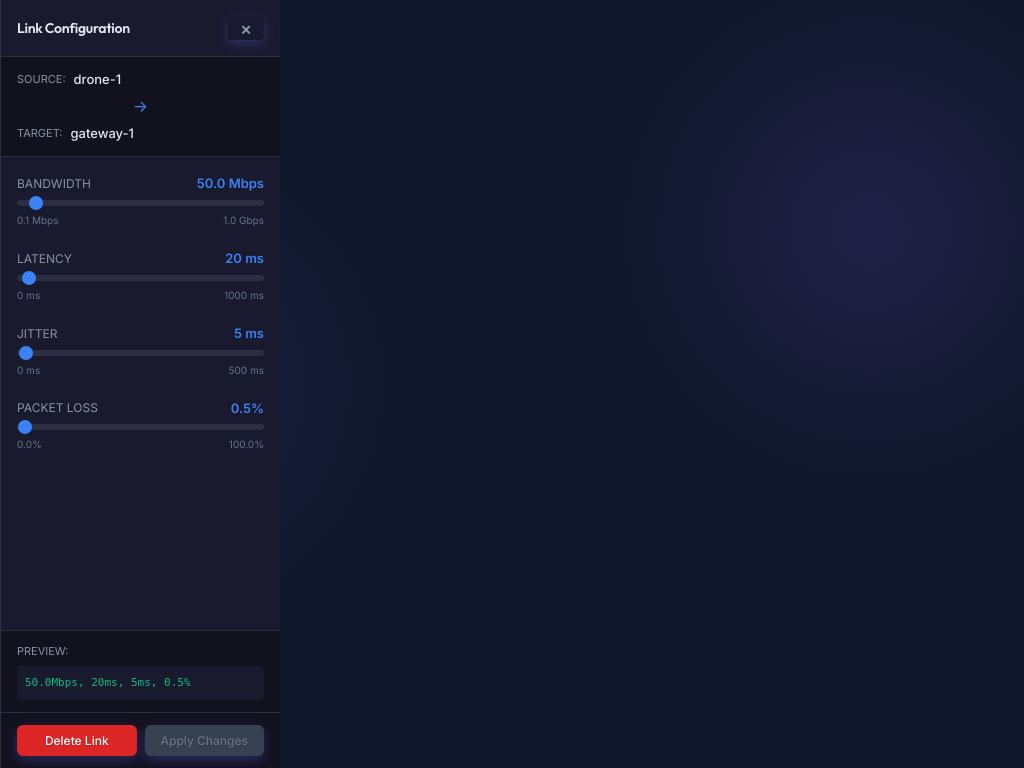
LinkConfigPanel › Interactions › enables Apply Changes button after slider change
The image size is (1024, 768).
Change the first slider (bandwidth)
Set the slider below "50.0 Mbps" to "200" at (71, 203), box [17, 200, 264, 206]
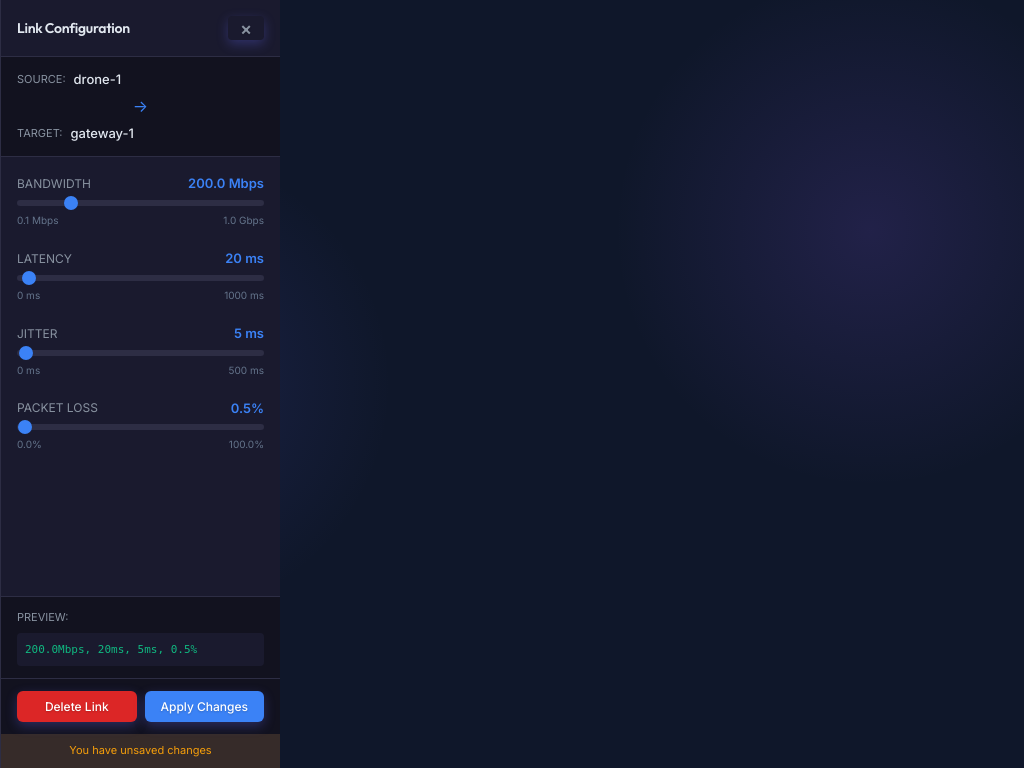
Expected: the button "Apply Changes" is enabled, [144, 691, 264, 722]
